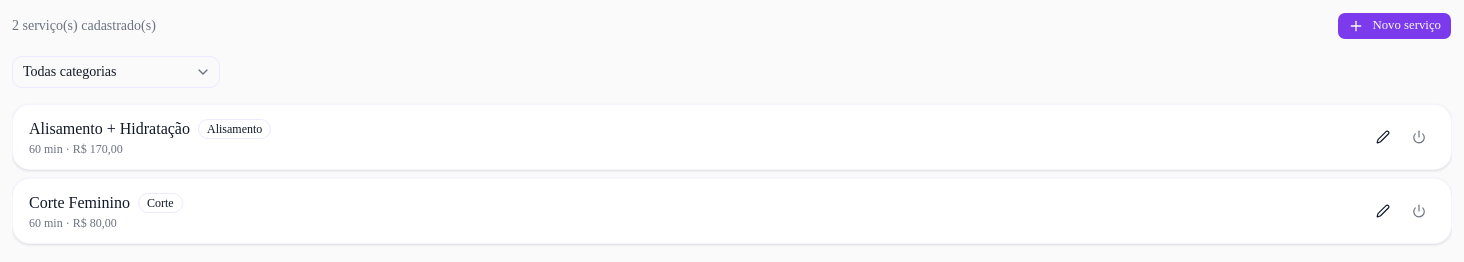
Scenario: ServiceCatalog › volta a mostrar todos ao selecionar "Todas categorias"
Click the dropdown at (116, 72), box [12, 56, 220, 88]
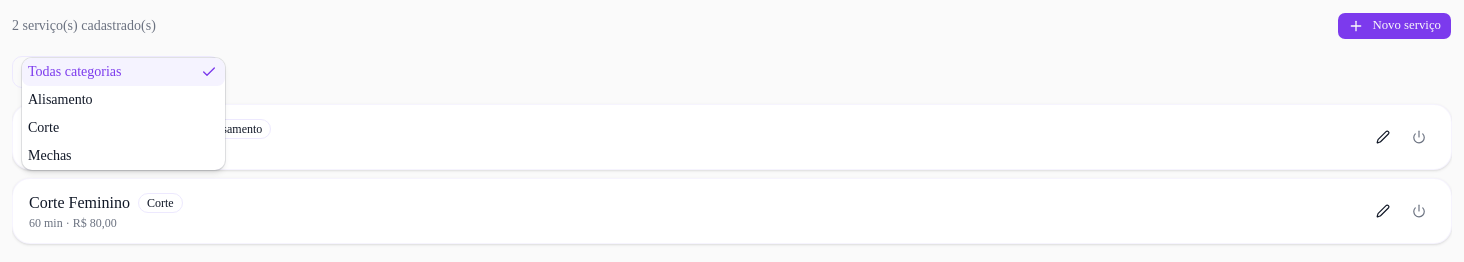
Click the option "Corte" at (44, 128), box [28, 120, 59, 135]
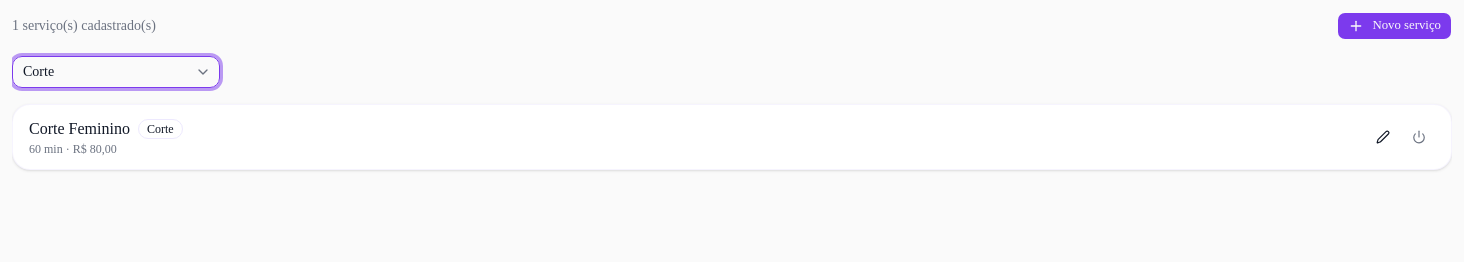
Click the dropdown at (116, 72), box [12, 56, 220, 88]
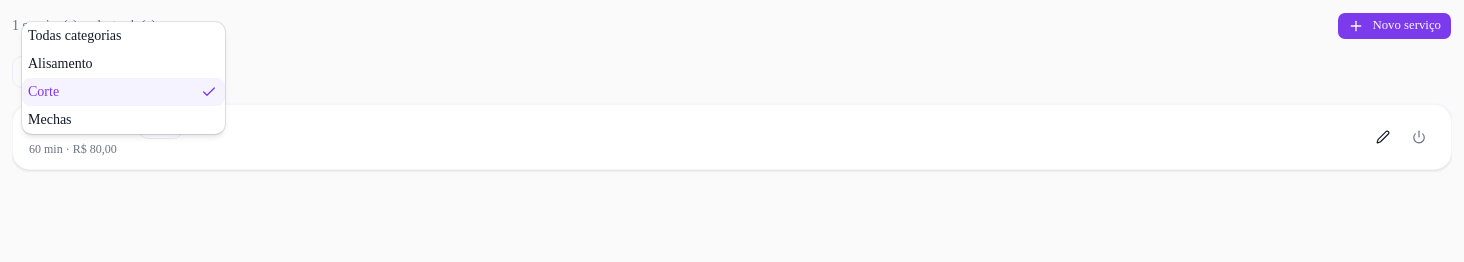
Click the option "Todas categorias" at (75, 36), box [28, 28, 122, 43]
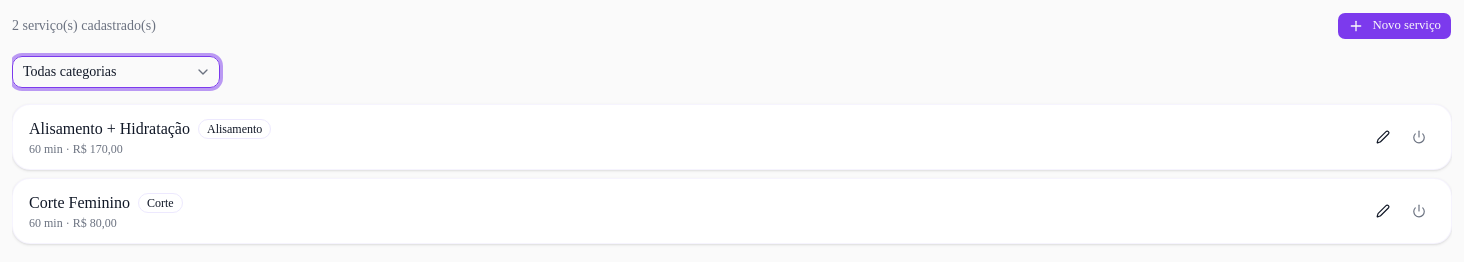
Expected: the text "Corte Feminino" is shown, [29, 191, 130, 215]
Expected: the text "Alisamento + Hidratação" is shown, [29, 117, 190, 141]
